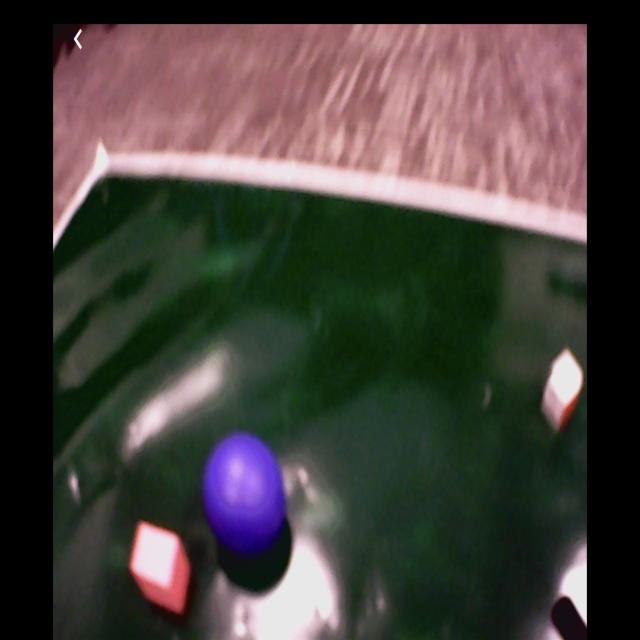ball: (207, 436, 285, 562)
